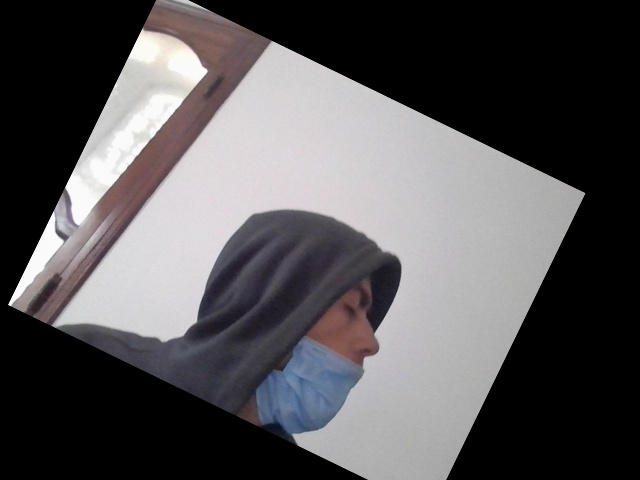mask_weared_incorrect: (263, 267, 388, 446)
